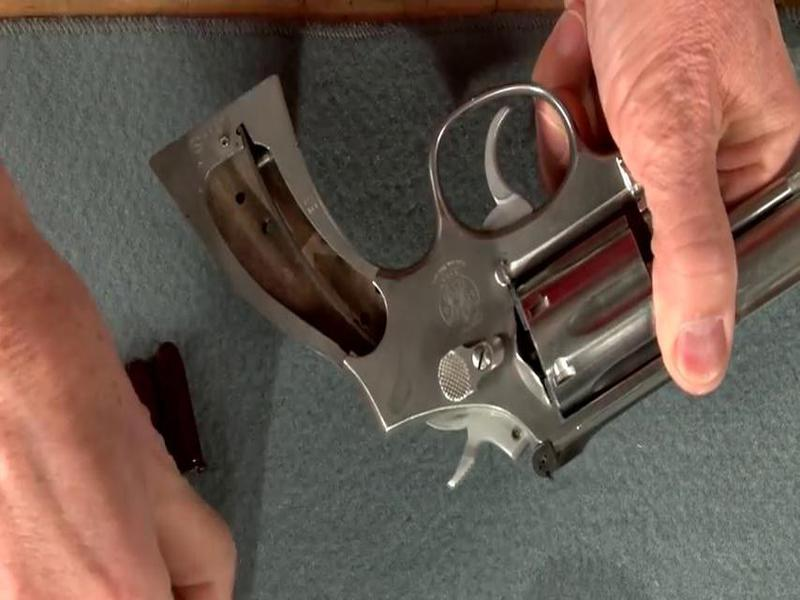Revolver: (102, 53, 800, 485)
